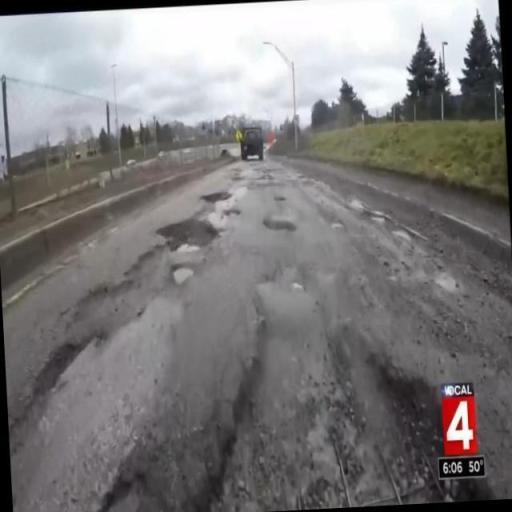pothole: (79, 134, 296, 379), (103, 141, 284, 404), (14, 187, 61, 512)
